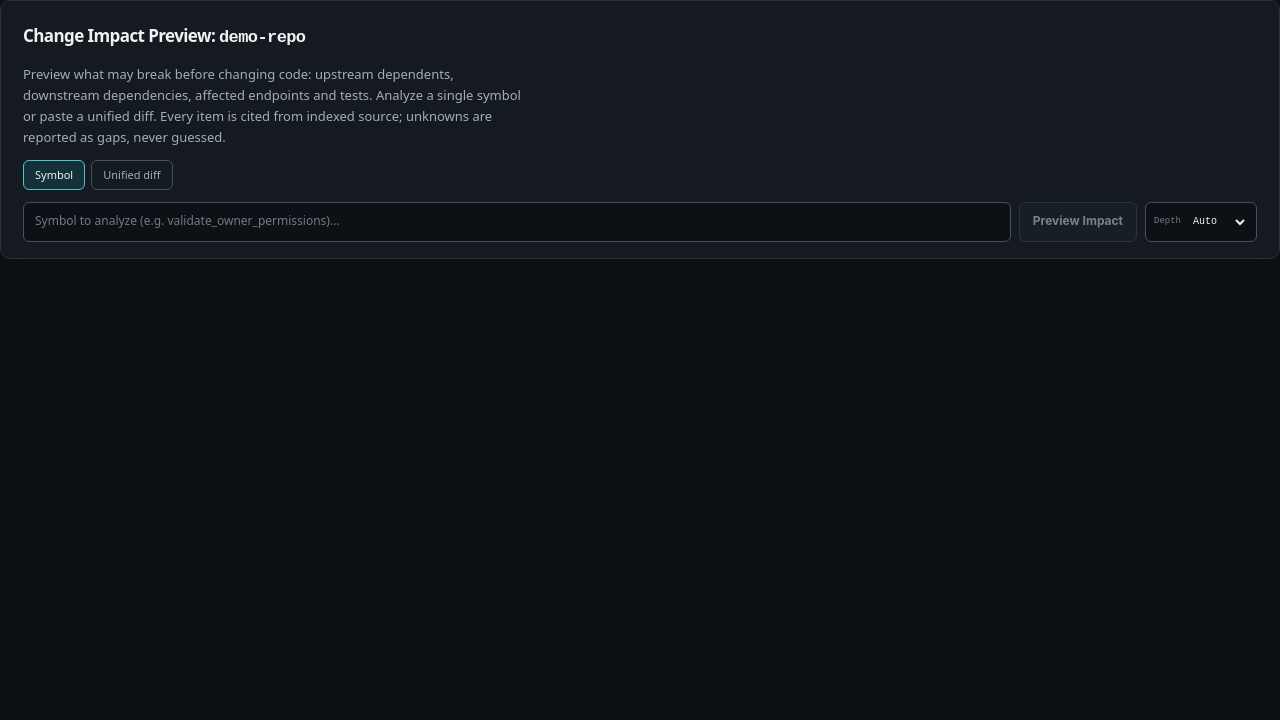
it: ImpactPanel › renders risk level, factors, upstream and downstream items with distance and confidence
Type "load_stats" into the field named "Impact target symbol" at (517, 222), box [23,202,1011,242]
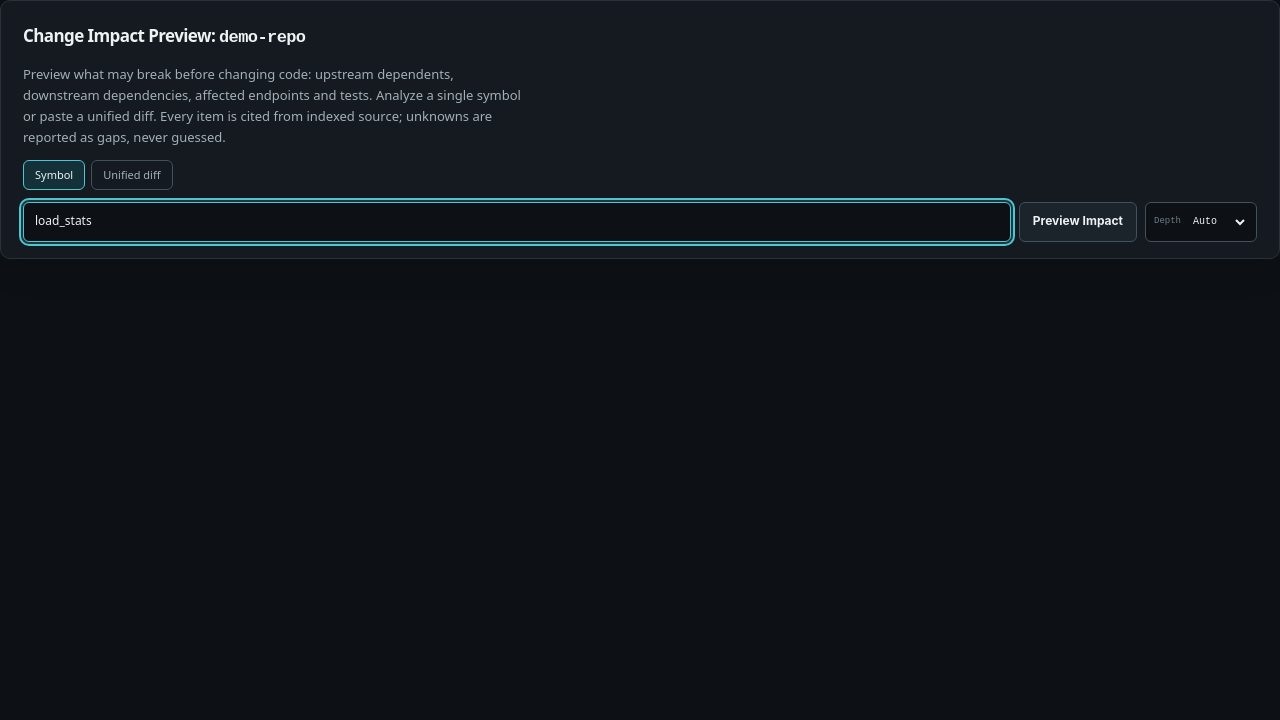
Click the button "Preview Impact" at (1078, 222), box [1019,202,1137,242]
(page scrolled)
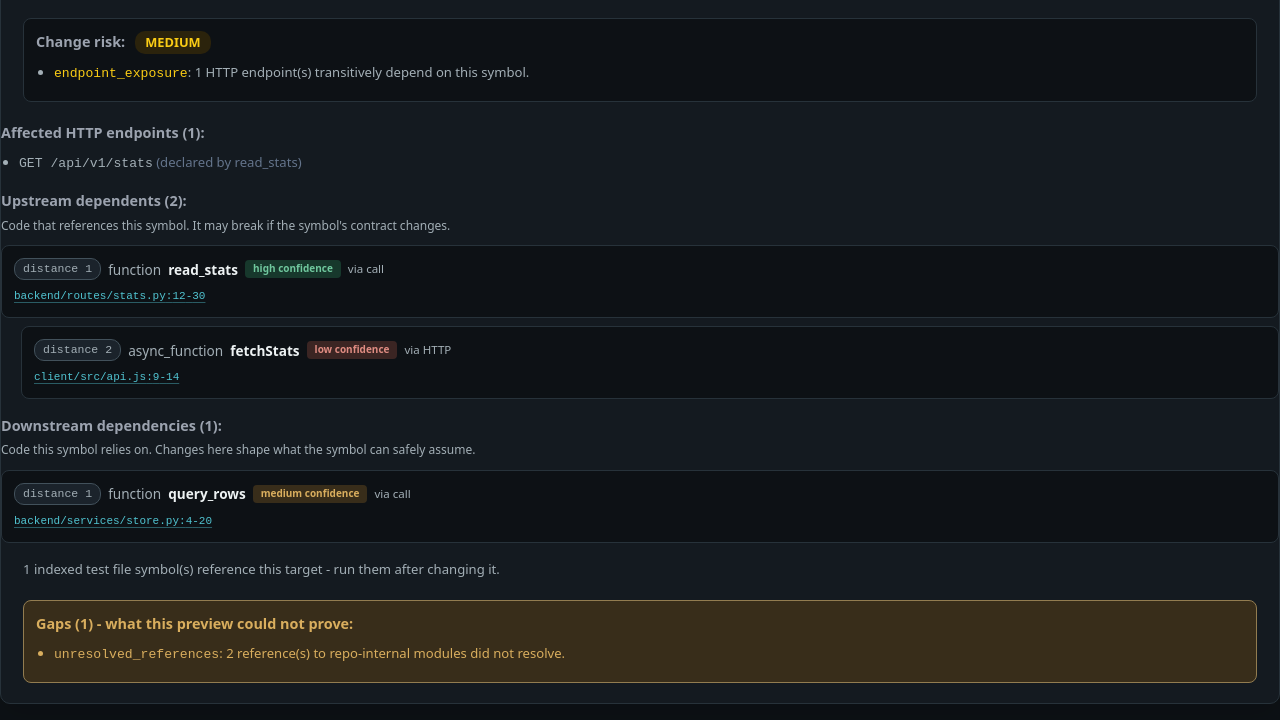
Expected: the text "medium" is shown, [135,30,211,54]
Expected: the text "endpoint_exposure" is shown, [54,66,188,81]
Expected: the heading "Upstream dependents (2):" is shown, [1,191,187,210]
